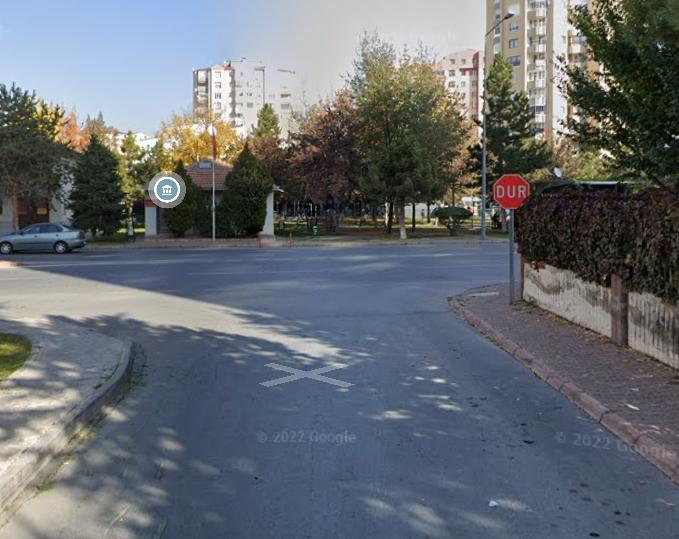stop: (493, 173, 532, 210)
